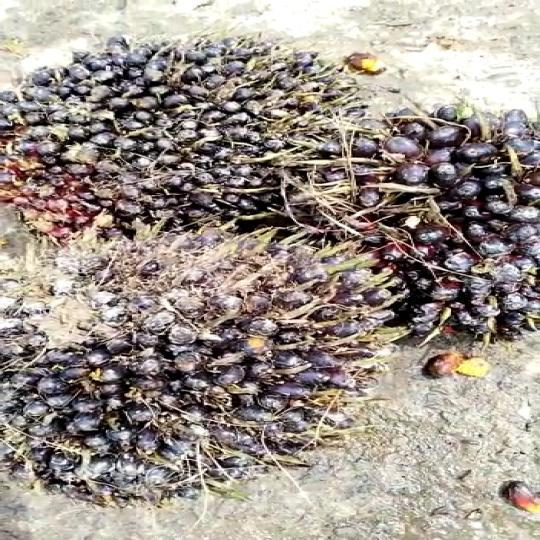mentah: (0, 207, 396, 514), (1, 43, 360, 232), (289, 101, 540, 340)
